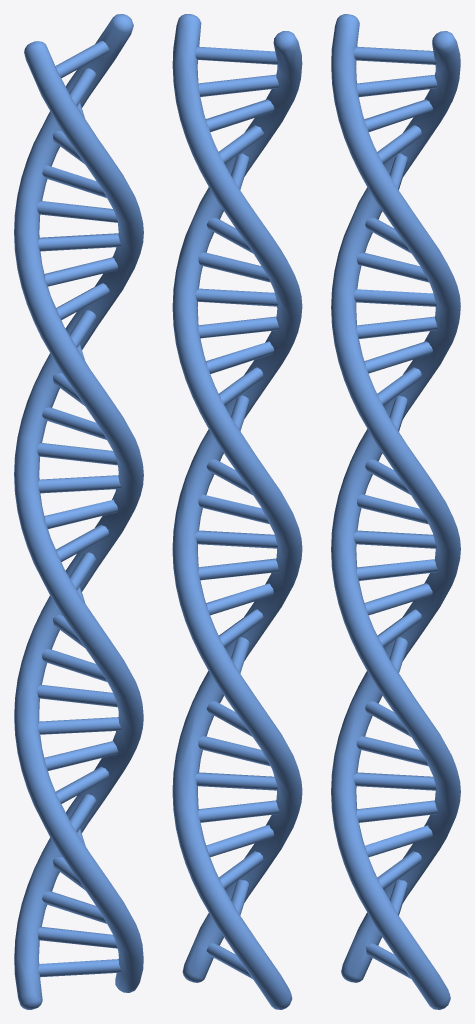
Rendered from a96a413a-5cb0-4c8d-81f7-786382646502-dna-v1.glb.
3 views of the same model, side by side, from view 1: azimuth 30°, elevation 25°; view 2: azimuth 150°, elevation 25°; view 3: azimuth 330°, elevation 25° (orthographic).
Visible parts, largest first — view 1: DNS_high; view 2: DNS_high; view 3: DNS_high.
Boxes of the visible parts, x1,y1,x2,y2 form: DNS_high: [14, 14, 143, 1009]; DNS_high: [172, 14, 302, 1009]; DNS_high: [331, 14, 460, 1009].
Size of the model in its own units: 0.2435 by 2.01 by 0.243.
